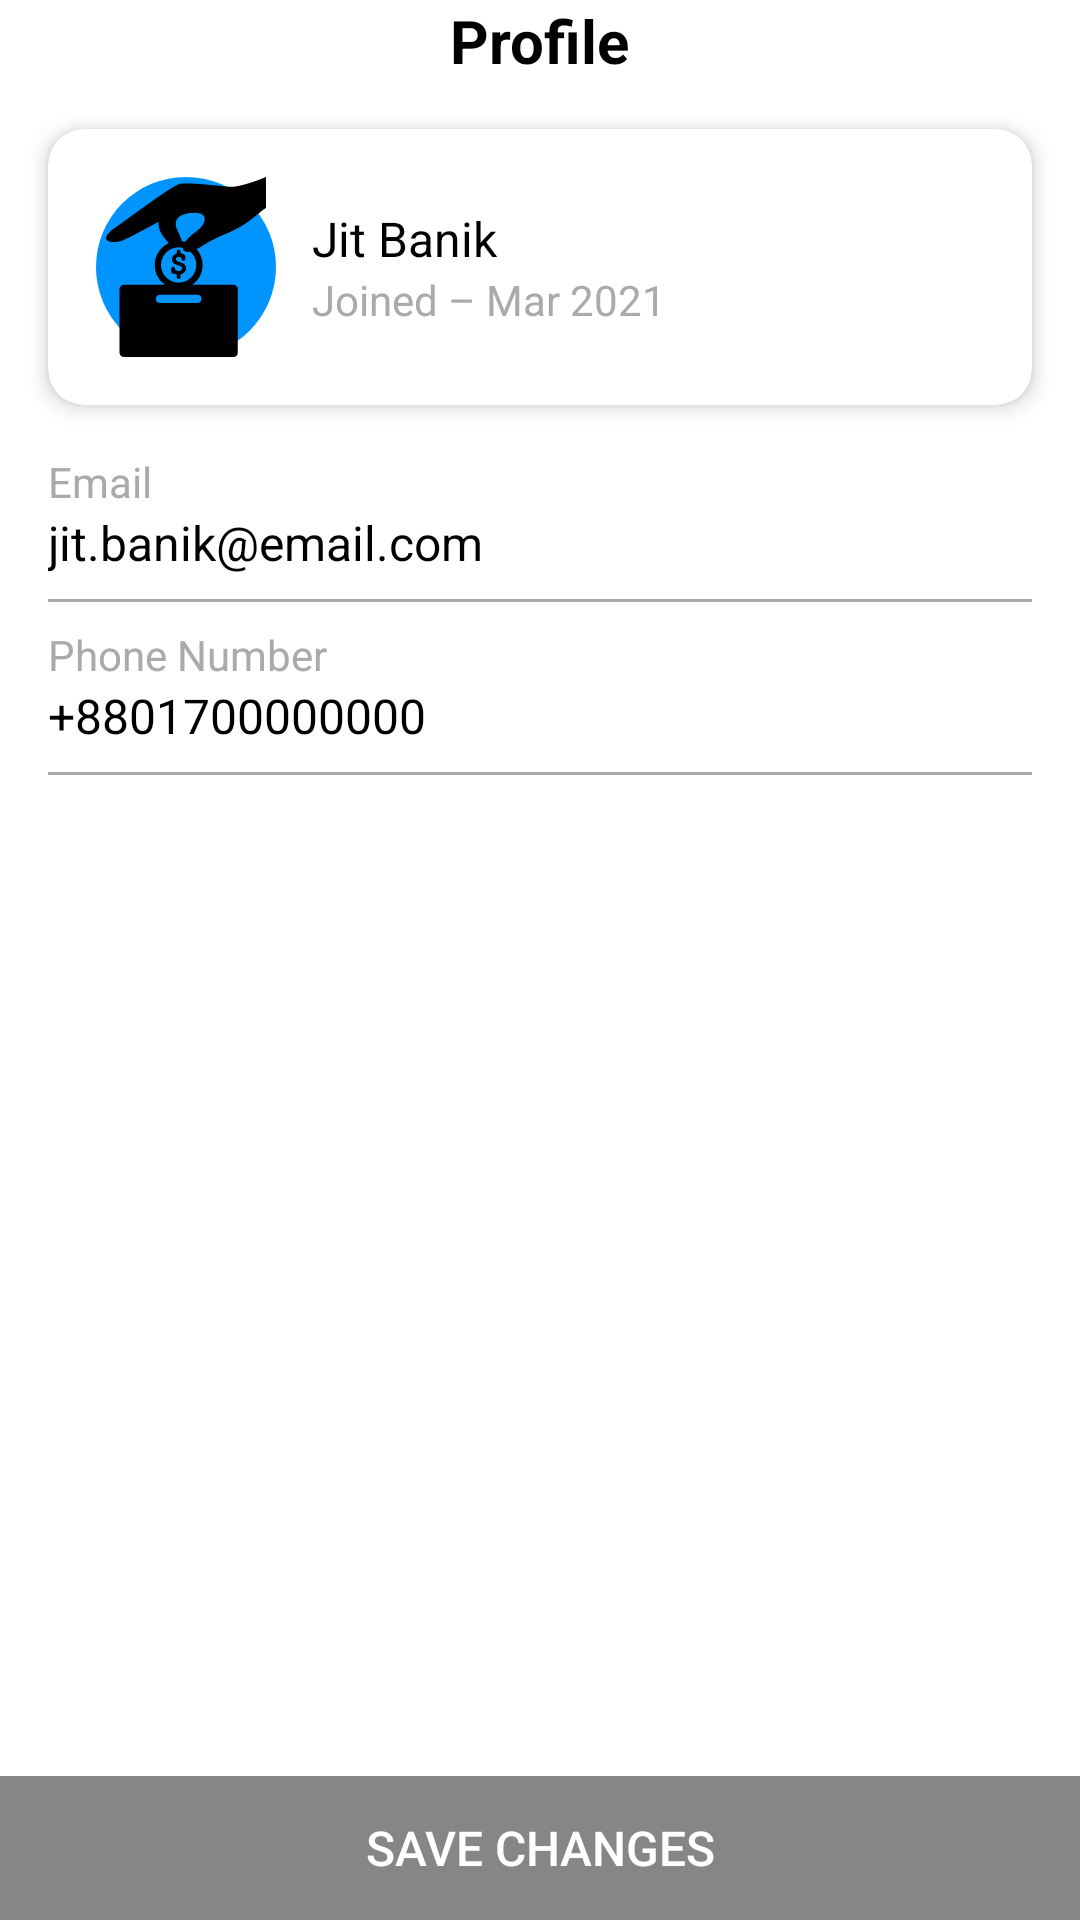

Icon click points for this 1080*1920 phone screenshot, format (x=x, y=y):
sponsor: (x=186, y=267)
